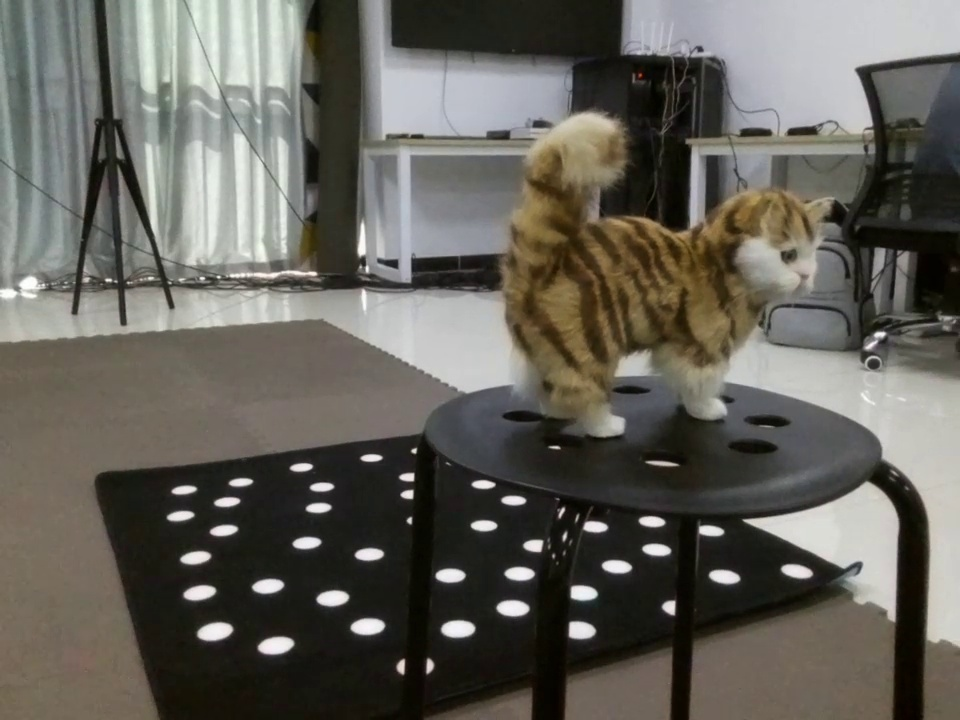cat: (473, 109, 869, 445)
